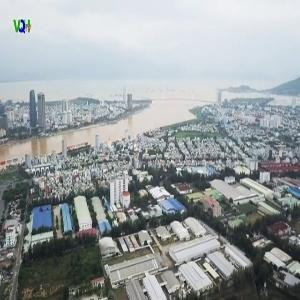drone: (109, 171, 180, 242)
